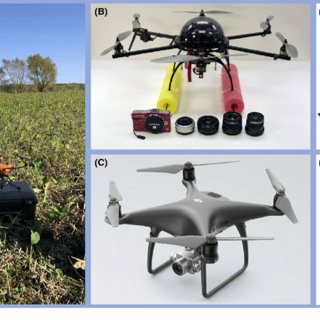maybay_khongnguoilai: (95, 158, 300, 278), (101, 3, 305, 82)
